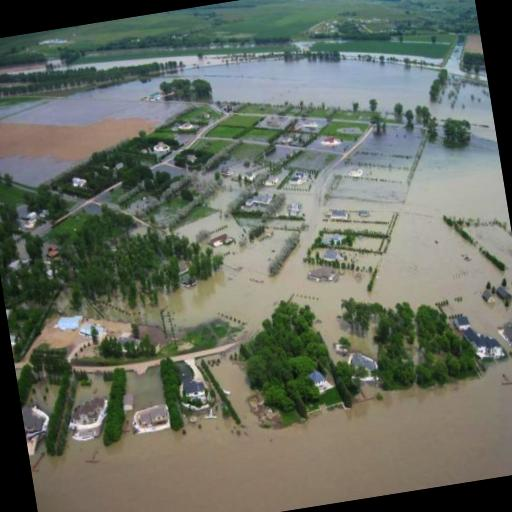flood: (104, 124, 425, 364), (29, 357, 512, 512), (368, 139, 512, 336), (176, 59, 497, 140), (0, 70, 187, 125), (0, 157, 73, 186), (126, 368, 164, 411), (75, 375, 110, 403), (28, 382, 57, 412), (306, 136, 356, 152), (340, 249, 382, 268), (351, 236, 382, 250), (265, 146, 292, 161)
house: (447, 32, 487, 85), (128, 403, 170, 433), (69, 400, 102, 428), (476, 336, 503, 360), (182, 376, 206, 400), (306, 367, 329, 390), (208, 230, 232, 250), (499, 318, 512, 348), (320, 246, 340, 263), (452, 314, 470, 331), (495, 283, 512, 300), (482, 288, 495, 304)
